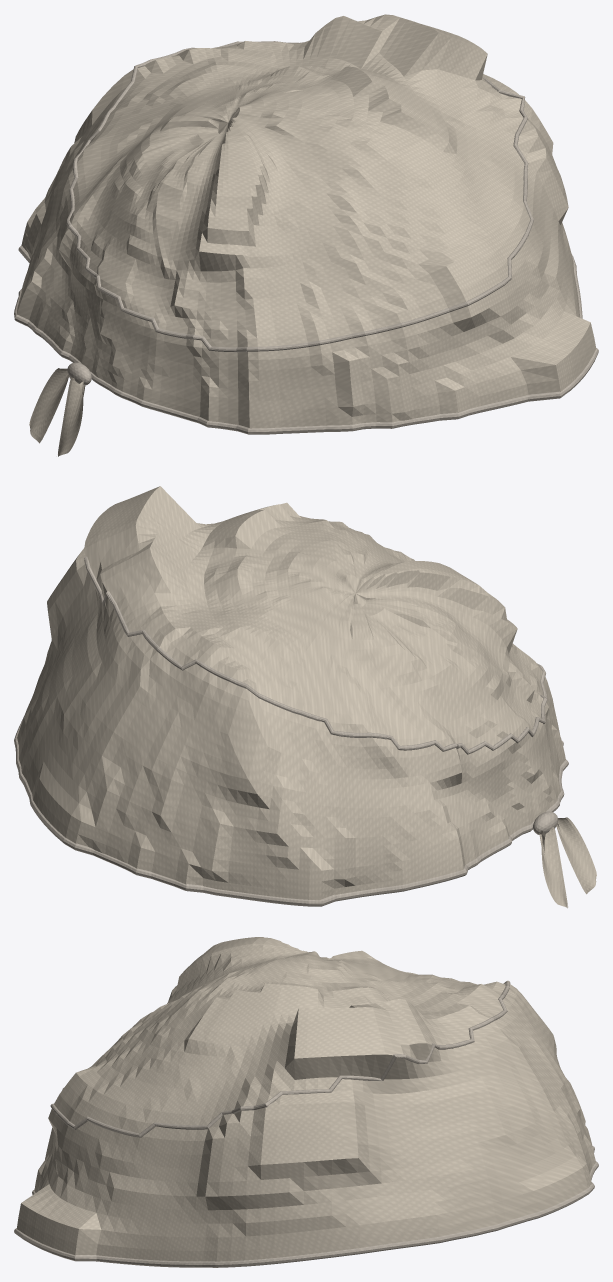
The model's file is side_shrinepeasant_headcloth.glb.
3 views of the same model, one above another, from view 1: azimuth 30°, elevation 25°; view 2: azimuth 150°, elevation 25°; view 3: azimuth 270°, elevation 25° (orthographic). The views are drawn at different scales.
Parts seen in each view (by area): view 1: wash_dyed_linen, sewn_fold; view 2: wash_dyed_linen, sewn_fold; view 3: wash_dyed_linen, sewn_fold.
Part boxes in pixels (bbox=[...]): wash_dyed_linen: bbox=[17, 14, 596, 456]; sewn_fold: bbox=[14, 41, 598, 434]; wash_dyed_linen: bbox=[17, 486, 596, 908]; sewn_fold: bbox=[14, 556, 568, 906]; wash_dyed_linen: bbox=[16, 937, 595, 1261]; sewn_fold: bbox=[14, 980, 598, 1267].
Bounding box in the file's own units: 16.88 × 9.98 × 17.65.
Materials: 3 (3 with a texture image).
